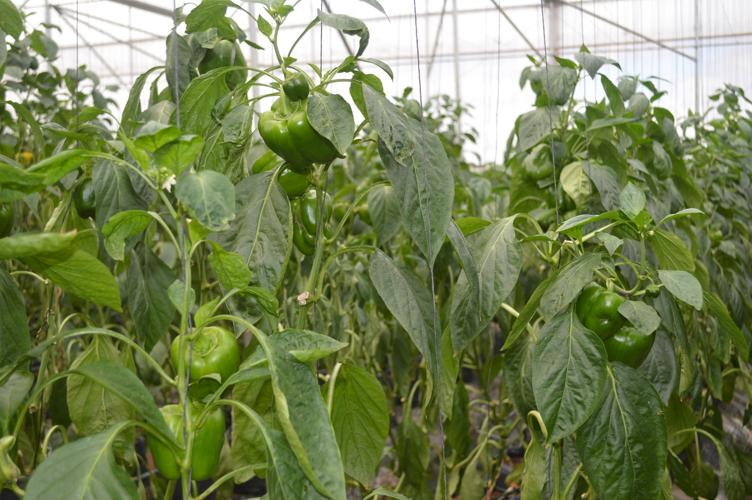BellPepper: (146, 406, 221, 483), (255, 97, 335, 166), (174, 329, 239, 387), (594, 321, 652, 369), (570, 287, 623, 336), (204, 44, 251, 82)
